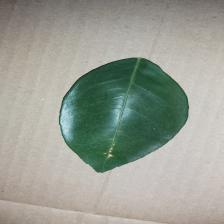healthy: (56, 55, 192, 174)
